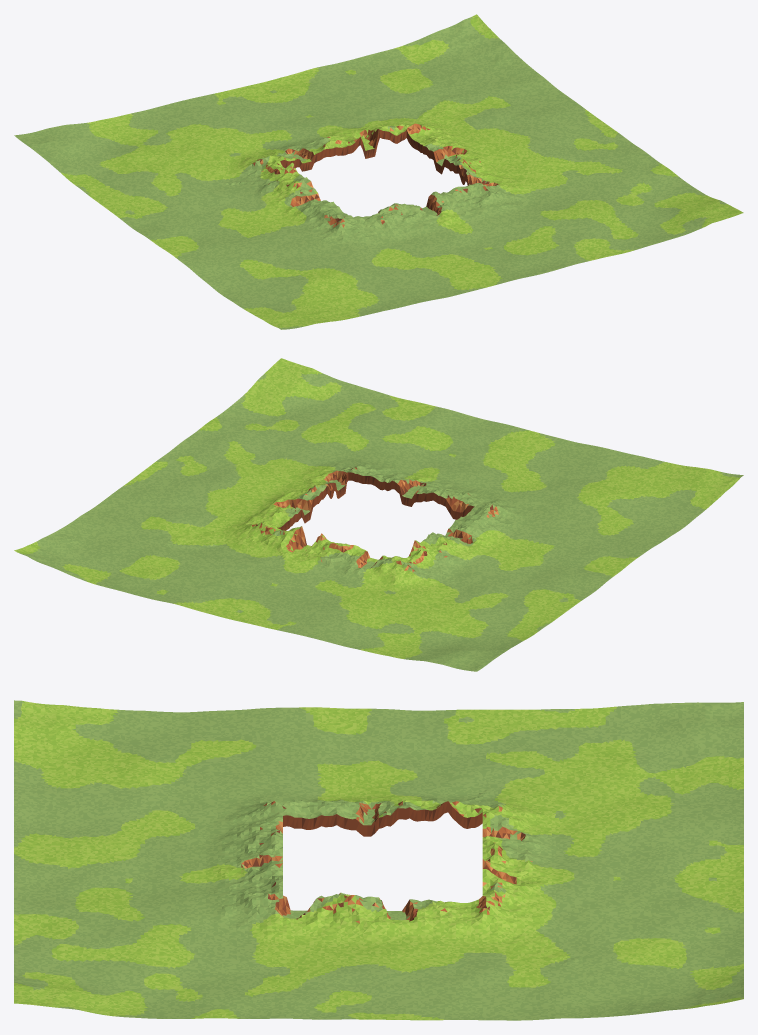
File: SM_Terrain_Near.obj
The picture shows the model from 3 angles, top to bottom: view 1: azimuth 30°, elevation 25°; view 2: azimuth 150°, elevation 25°; view 3: azimuth 270°, elevation 25°; orthographic projection. The views are drawn at different scales.
Parts seen in each view (by area): view 1: SM_Terrain_Near; view 2: SM_Terrain_Near; view 3: SM_Terrain_Near.
Boxes of the visible parts, x1,y1,x2,y2 form: SM_Terrain_Near: [14, 14, 743, 329]; SM_Terrain_Near: [14, 358, 743, 671]; SM_Terrain_Near: [14, 700, 743, 1020].
Bounding box in the file's own units: 4750 × 277 × 4750.
Materials: 1 (1 with a texture image).
